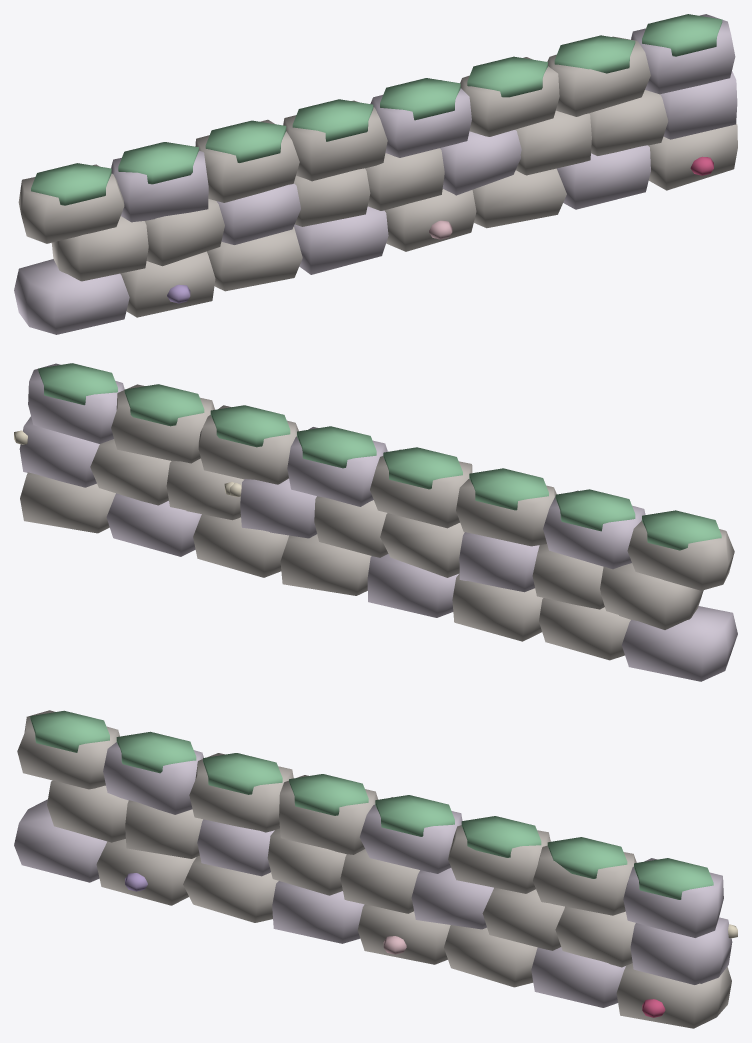
The model's file is fells_sheepfold_wall.gltf.
3 renders of one model, top to bottom at view 1: azimuth 30°, elevation 25°; view 2: azimuth 150°, elevation 25°; view 3: azimuth 330°, elevation 25°, orthographic.
Visible parts, largest first — view 1: fells_sheepfold_wall; view 2: fells_sheepfold_wall; view 3: fells_sheepfold_wall.
Boxes of the visible parts, box(x1,y1,x2,y2) form: fells_sheepfold_wall: box(14, 14, 737, 334); fells_sheepfold_wall: box(14, 363, 737, 681); fells_sheepfold_wall: box(14, 710, 737, 1028).
Size of what is drawn, in the model's own units: 6.11 by 1.21 by 0.7104.
